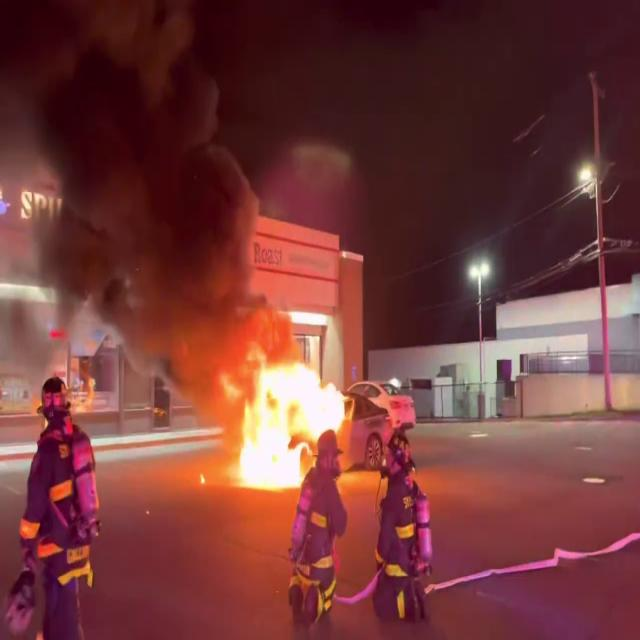Fire: (225, 337, 353, 491)
Smoke: (0, 0, 272, 373)
